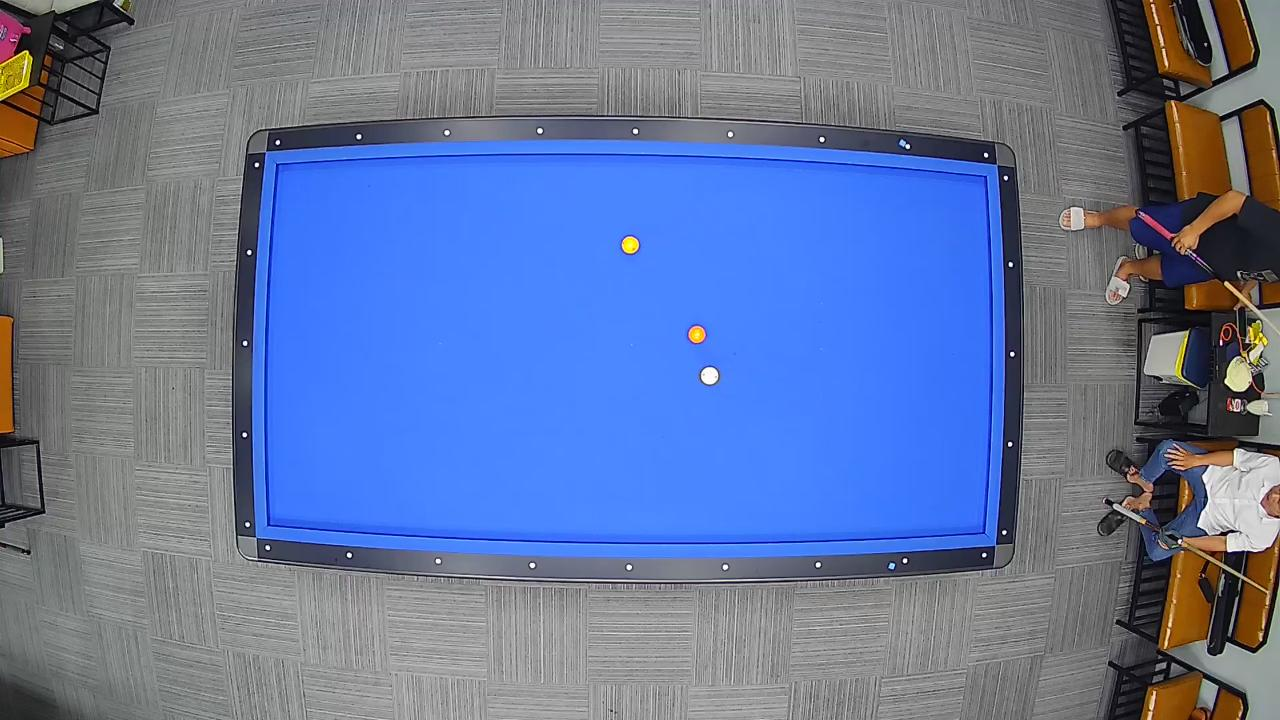Orange: (686, 324, 708, 346)
White: (699, 365, 720, 387)
Yellow: (620, 234, 641, 256)
